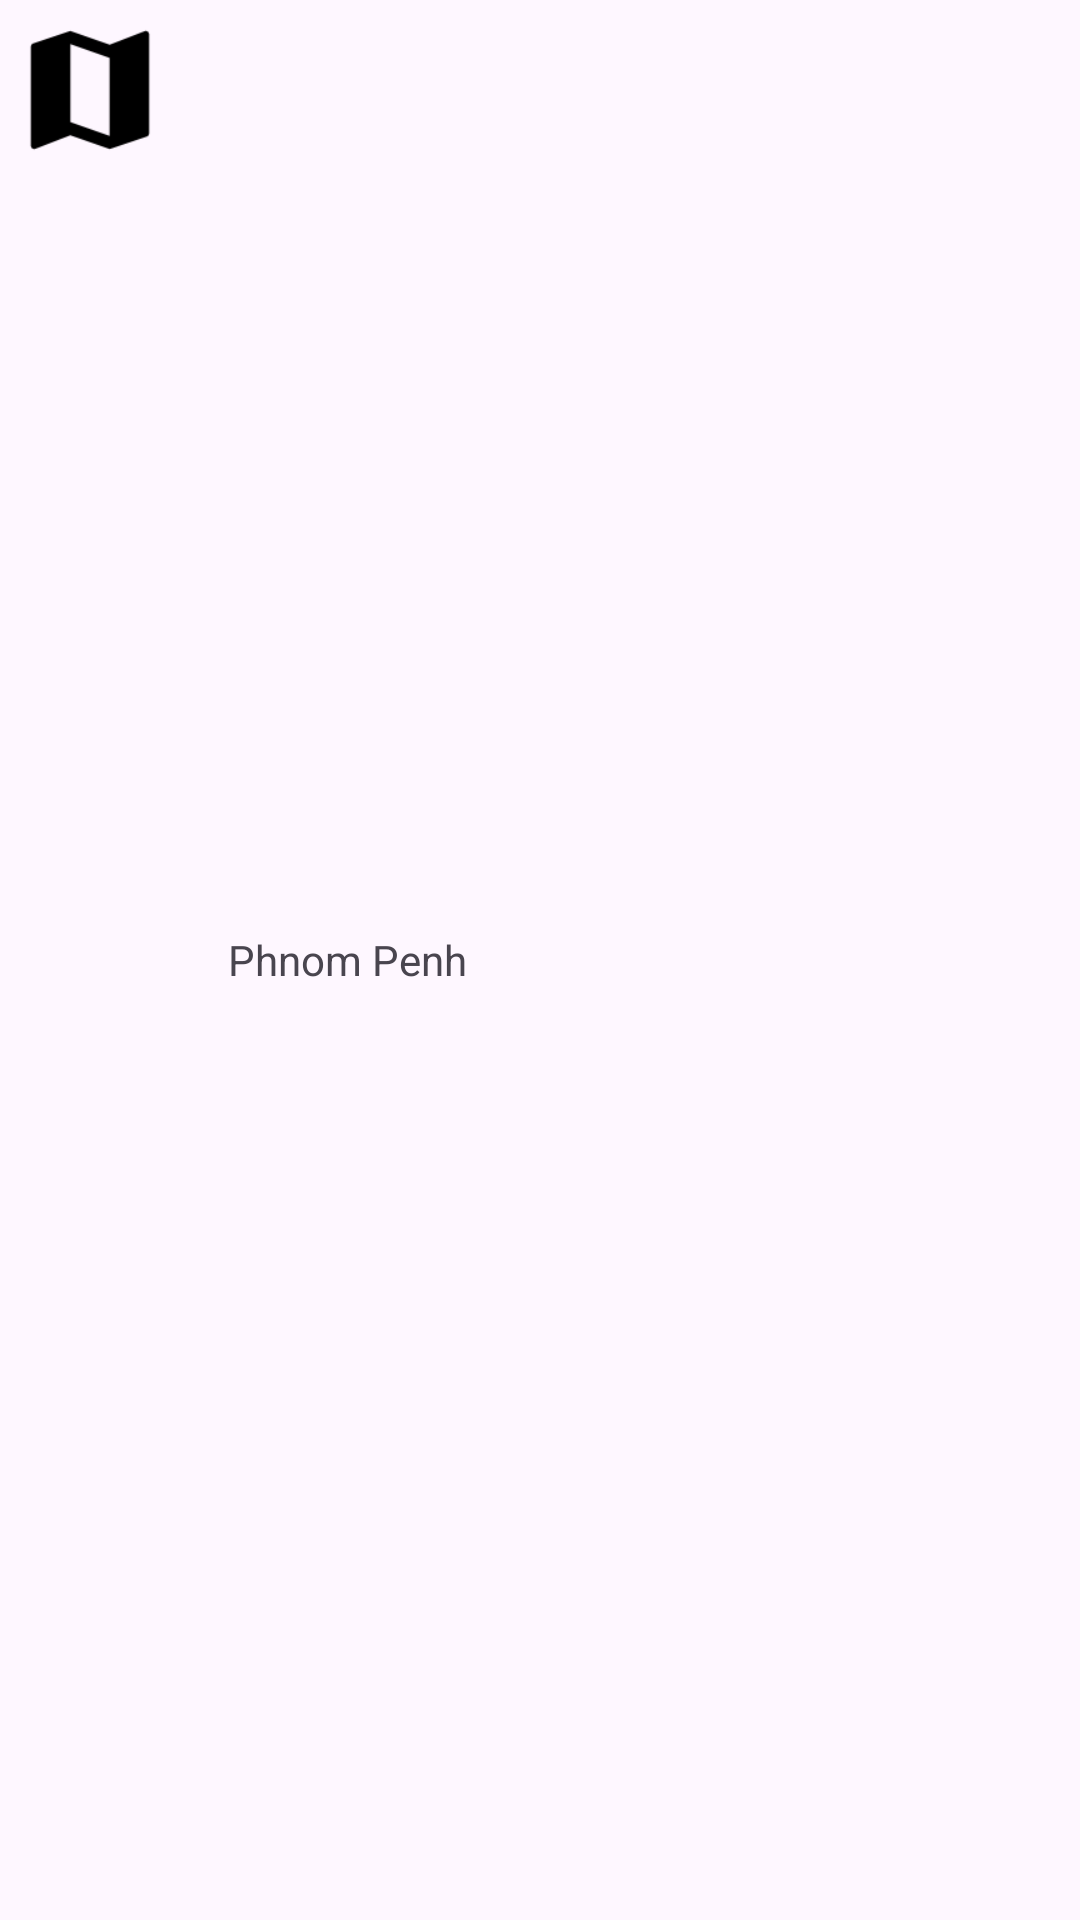

Screen size 1080×1920. Icon name, then its center in pixels as (x=x, y=y):
province: (x=90, y=90)
